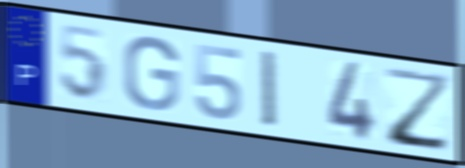4: (325, 59, 379, 143)
5: (58, 21, 110, 105), (193, 40, 243, 121)
G: (121, 34, 182, 113)
I: (259, 47, 280, 132)
Z: (383, 65, 452, 155)
